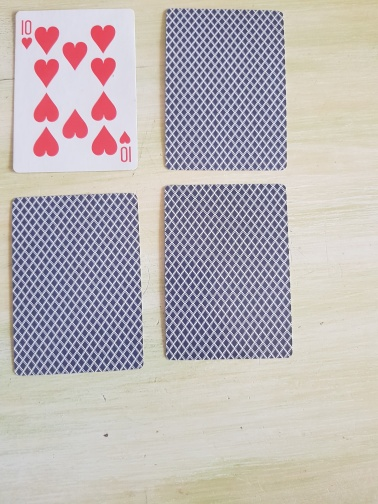ten: (10, 7, 140, 175)
